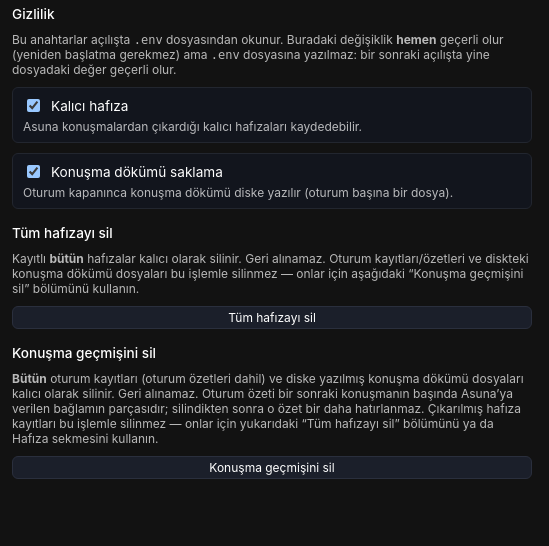
SettingsView — konusma gecmisini sil › silinecek bir sey yoktu diyebilir
Click the button "Konuşma geçmişini sil". click: (272, 468)
box: [12, 456, 532, 479]
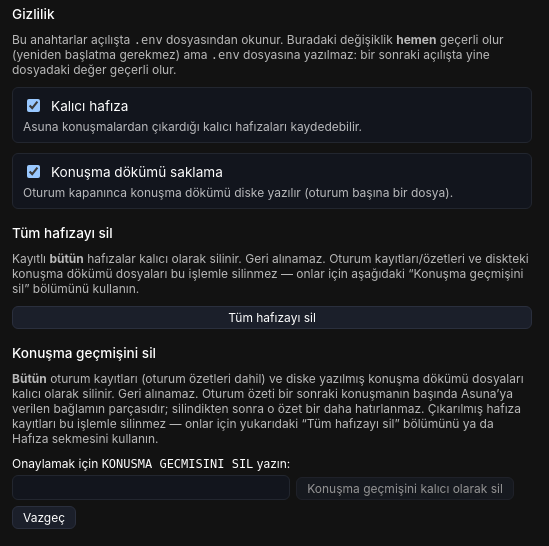
Type "KONUSMA GECMISINI SIL" into the field. click: (151, 488)
box: [12, 475, 290, 500]
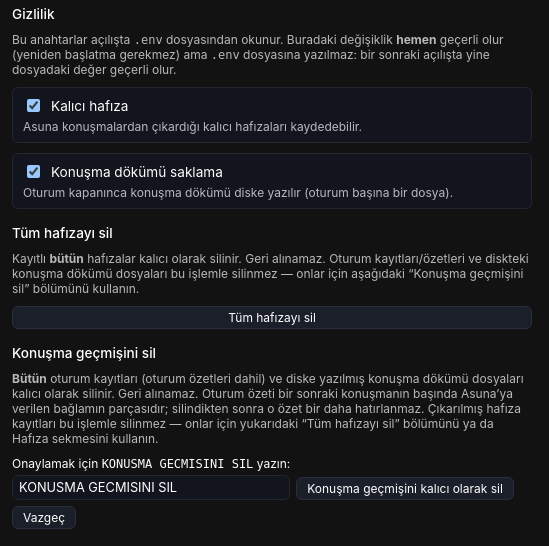
Click the button "Konuşma geçmişini kalıcı olarak sil". click: (405, 488)
box: [296, 477, 514, 500]
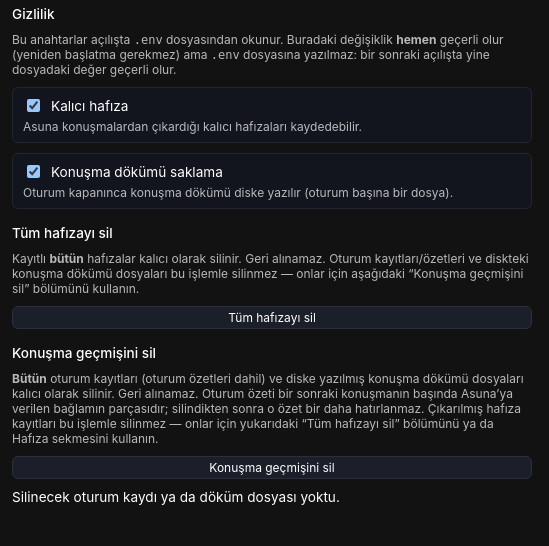
Now the message reads "Silinecek oturum kaydı ya da döküm dosyası yoktu.", box [12, 489, 340, 505]
